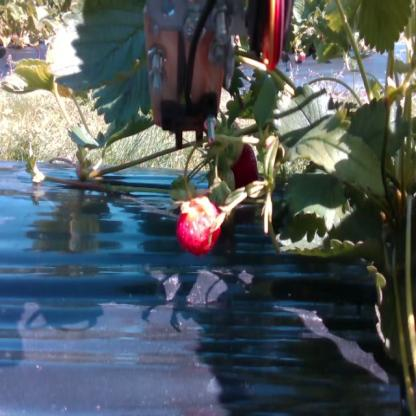ripe: (175, 197, 219, 256)
